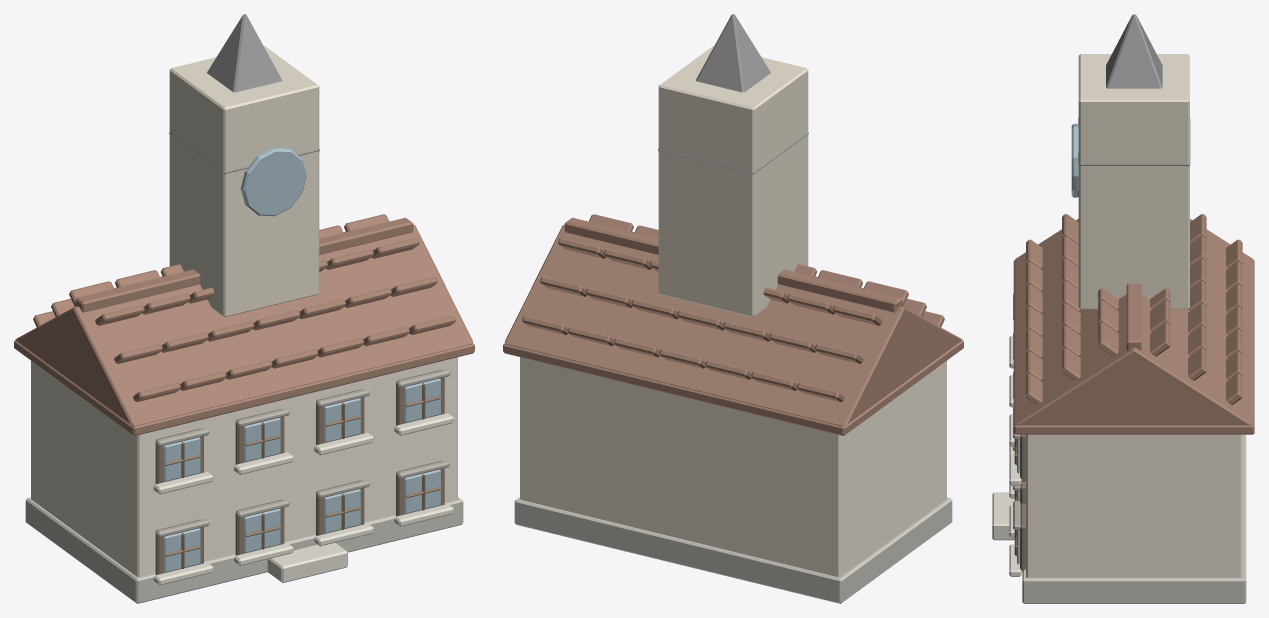
File: townhall.glb
The picture shows the model from 3 angles, left to right: view 1: azimuth 30°, elevation 25°; view 2: azimuth 150°, elevation 25°; view 3: azimuth 270°, elevation 25°; orthographic projection.
Parts seen in each view (by area): view 1: wall, roof, tower, skirt, eave, ridge, clock, spire, step, wglass, wglass.004, wglass.001 (+15 smaller); view 2: wall, roof, tower, skirt, eave, ridge, spire; view 3: wall, tower, roof, skirt, eave, spire, ridge, step, clock, shingle.041, shingle.020, shingle.013 (+30 smaller).
Part boxes in pixels (x1,y1,x2,y2): wall: [31, 357, 457, 577]; roof: [15, 224, 473, 426]; tower: [169, 45, 319, 317]; skirt: [25, 497, 463, 603]; eave: [14, 340, 474, 435]; ridge: [75, 217, 413, 312]; clock: [241, 147, 306, 216]; spire: [169, 14, 319, 174]; step: [267, 543, 347, 582]; wglass: [163, 528, 200, 572]; wglass.004: [163, 437, 200, 481]; wglass.001: [244, 508, 280, 552]; wall: [520, 357, 946, 577]; roof: [504, 224, 962, 426]; tower: [658, 45, 808, 317]; skirt: [514, 497, 952, 603]; eave: [503, 340, 963, 435]; ridge: [564, 217, 902, 312]; spire: [658, 14, 808, 174]; wall: [1026, 434, 1242, 577]; tower: [1078, 54, 1189, 309]; roof: [1015, 219, 1253, 425]; skirt: [1022, 434, 1246, 603]; eave: [1013, 260, 1254, 434]; spire: [1078, 14, 1190, 166]; ridge: [1126, 283, 1141, 350]; step: [992, 492, 1014, 540]; clock: [1071, 123, 1078, 197]; shingle.041: [1150, 322, 1170, 356]; shingle.020: [1098, 322, 1118, 356]; shingle.013: [1062, 348, 1080, 380].
Size of the model in its own units: 2.56 by 3.64 by 1.7.
